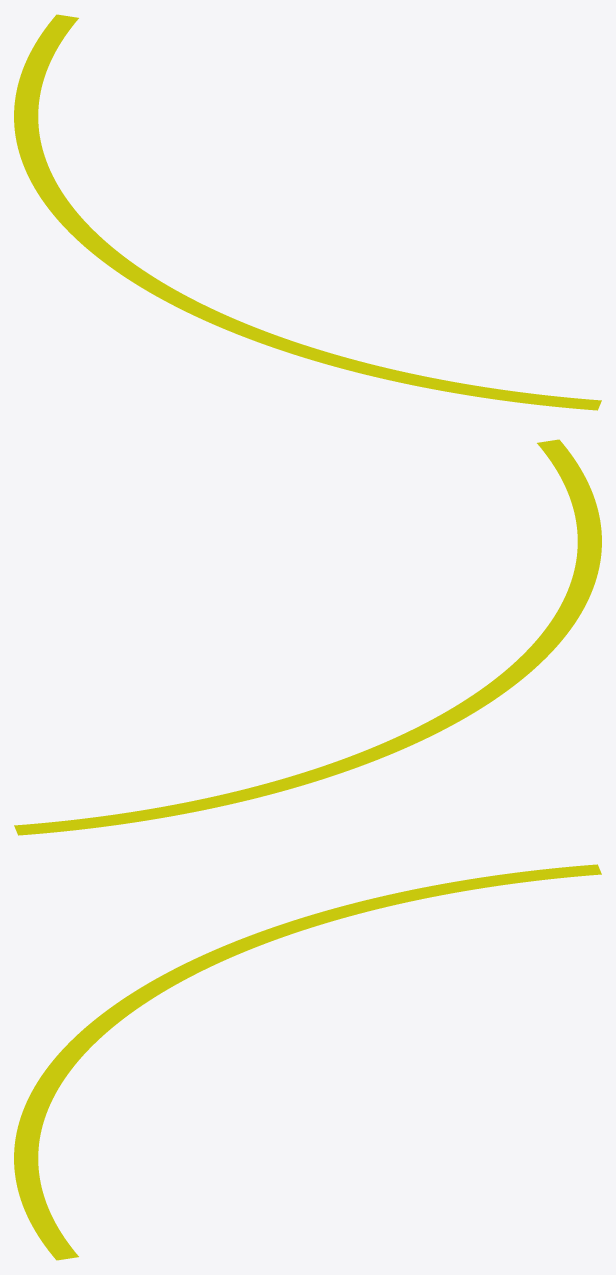
File: 黃彎曲.FBX
3 renders of one model, top to bottom at view 1: azimuth 30°, elevation 25°; view 2: azimuth 150°, elevation 25°; view 3: azimuth 330°, elevation 25°, orthographic.
Parts seen in each view (by area): view 1: Plane001; view 2: Plane001; view 3: Plane001.
Part boxes in pixels (left/top/right/bottom): Plane001: left=14, top=14, right=601, bottom=410; Plane001: left=14, top=439, right=601, bottom=835; Plane001: left=14, top=864, right=601, bottom=1260.
Bounding box in the file's own units: 111 × 3.01e-06 × 447.
